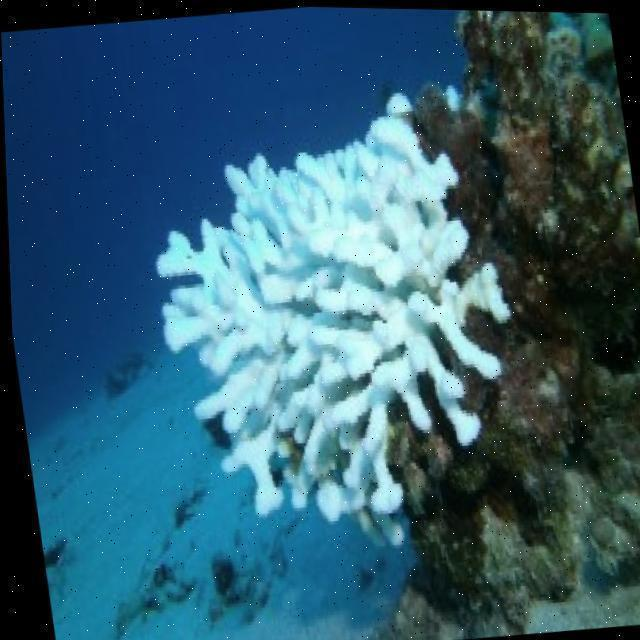Bleached Coral: (155, 85, 534, 544)
